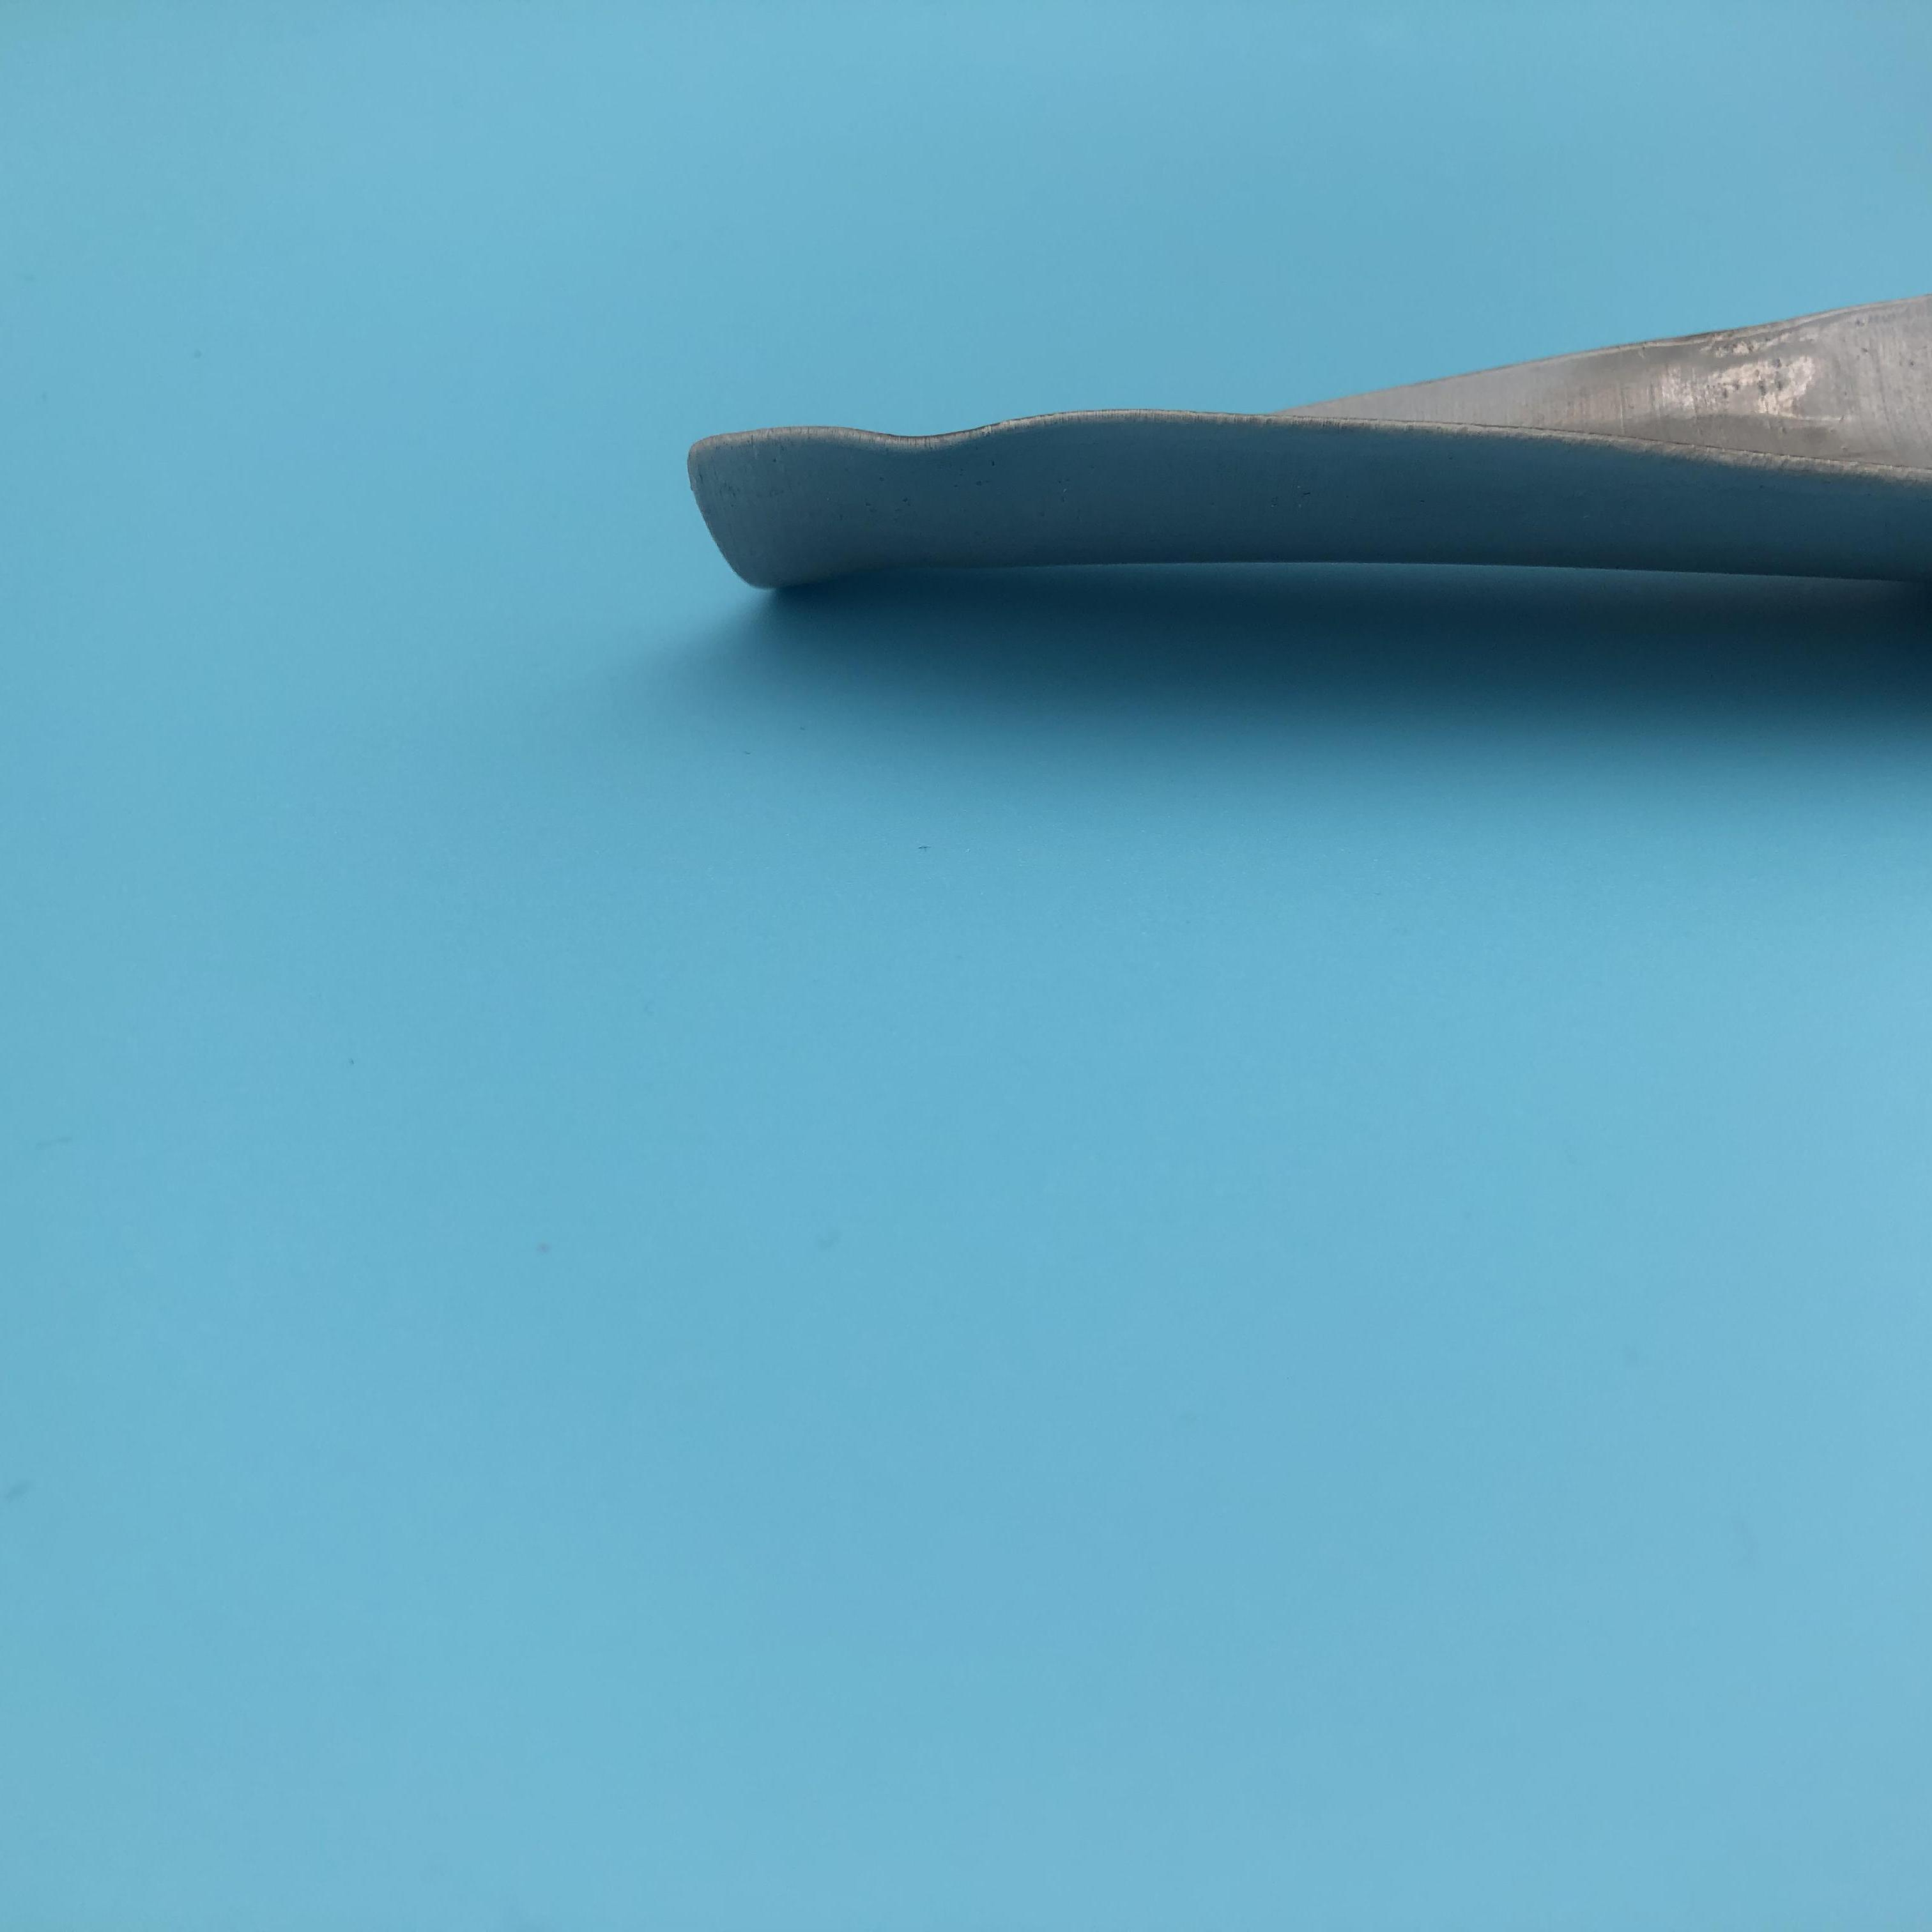ablation: (1640, 352, 1859, 462)
